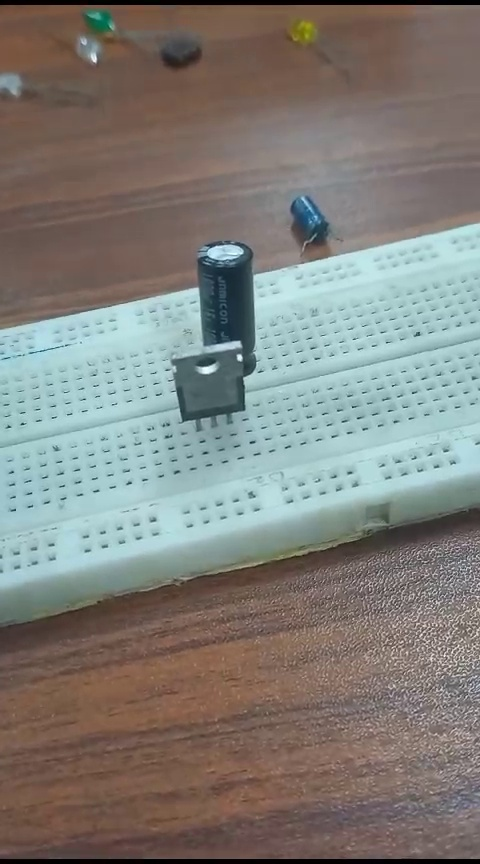capacitor: (187, 237, 263, 339)
voltage regulator: (170, 348, 250, 423)
